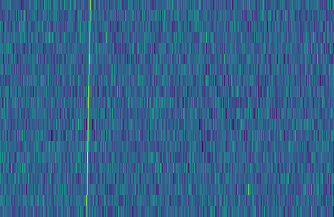signal: (79, 0, 92, 217)
